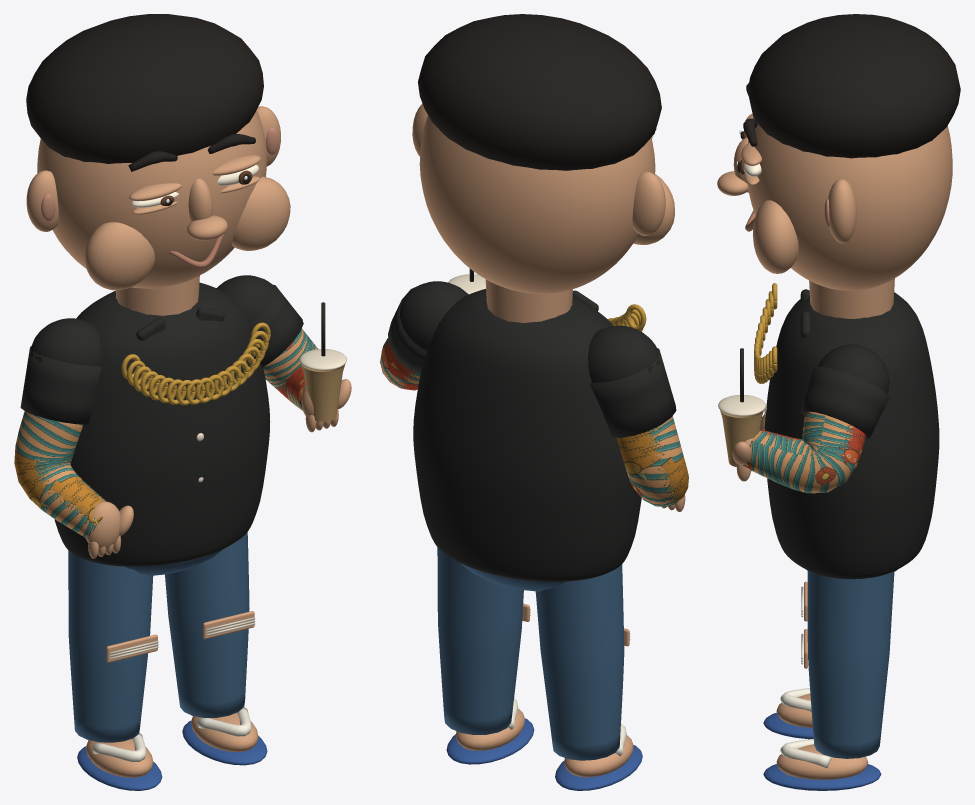
Rendered from taike.glb.
3 renders of one model, left to right at view 1: azimuth 30°, elevation 25°; view 2: azimuth 150°, elevation 25°; view 3: azimuth 270°, elevation 25°, orthographic. The views are drawn at different scales.
Visible parts, largest first — view 1: Torso, HairDome, SculptedHead, TrouserLeg, TrouserLeg.001, Arm, ShortSleeve, Cheek-1, Cheek1, ShoulderCap, Neck, ShortSleeve.001 (+20 smaller); view 2: Torso, HairDome, SculptedHead, TrouserLeg, TrouserLeg.001, Arm, ShortSleeve, ShoulderCap, ShoulderCap.001, Neck, Ear-1, BlueWhiteSole.001 (+7 smaller); view 3: Torso, HairDome, SculptedHead, TrouserLeg.001, Arm.001, ShortSleeve.001, Cheek1, Neck, ShoulderCap.001, Foot.001, BlueWhiteSole.001, Ear1 (+7 smaller).
Part boxes in pixels (box(x1,y1,x2,y2)): Torso: box(54, 282, 270, 566); HairDome: box(26, 14, 263, 163); SculptedHead: box(37, 110, 266, 288); TrouserLeg: box(68, 550, 153, 742); TrouserLeg.001: box(165, 532, 249, 717); Arm: box(14, 411, 105, 537); ShortSleeve: box(20, 346, 101, 424); Cheek-1: box(84, 222, 155, 290); Cheek1: box(232, 176, 290, 250); ShoulderCap: box(30, 318, 100, 366); Neck: box(115, 275, 199, 315); ShortSleeve.001: box(249, 284, 303, 367); Torso: box(413, 289, 641, 581); HairDome: box(418, 14, 661, 170); SculptedHead: box(419, 115, 655, 293); TrouserLeg: box(535, 564, 624, 760); TrouserLeg.001: box(437, 547, 523, 734); Arm: box(617, 416, 688, 506); ShortSleeve: box(589, 348, 676, 437); ShoulderCap: box(588, 325, 659, 382); ShoulderCap.001: box(399, 281, 468, 350); Neck: box(485, 279, 572, 322); Ear-1: box(632, 171, 665, 235); BlueWhiteSole.001: box(446, 718, 534, 764); Torso: box(764, 292, 939, 579); HairDome: box(747, 14, 960, 158); SculptedHead: box(747, 117, 952, 290); TrouserLeg.001: box(807, 570, 894, 758); Arm.001: box(745, 411, 865, 493); ShortSleeve.001: box(800, 366, 889, 438); Cheek1: box(753, 200, 798, 273); Neck: box(809, 278, 894, 318); ShoulderCap.001: box(818, 344, 889, 393); Foot.001: box(776, 744, 868, 779); BlueWhiteSole.001: box(763, 764, 881, 790); Ear1: box(828, 178, 856, 243).
Bounding box in the file's own units: 1.05 × 2.42 × 0.7426.
Materials: 21 (2 with a texture image).
